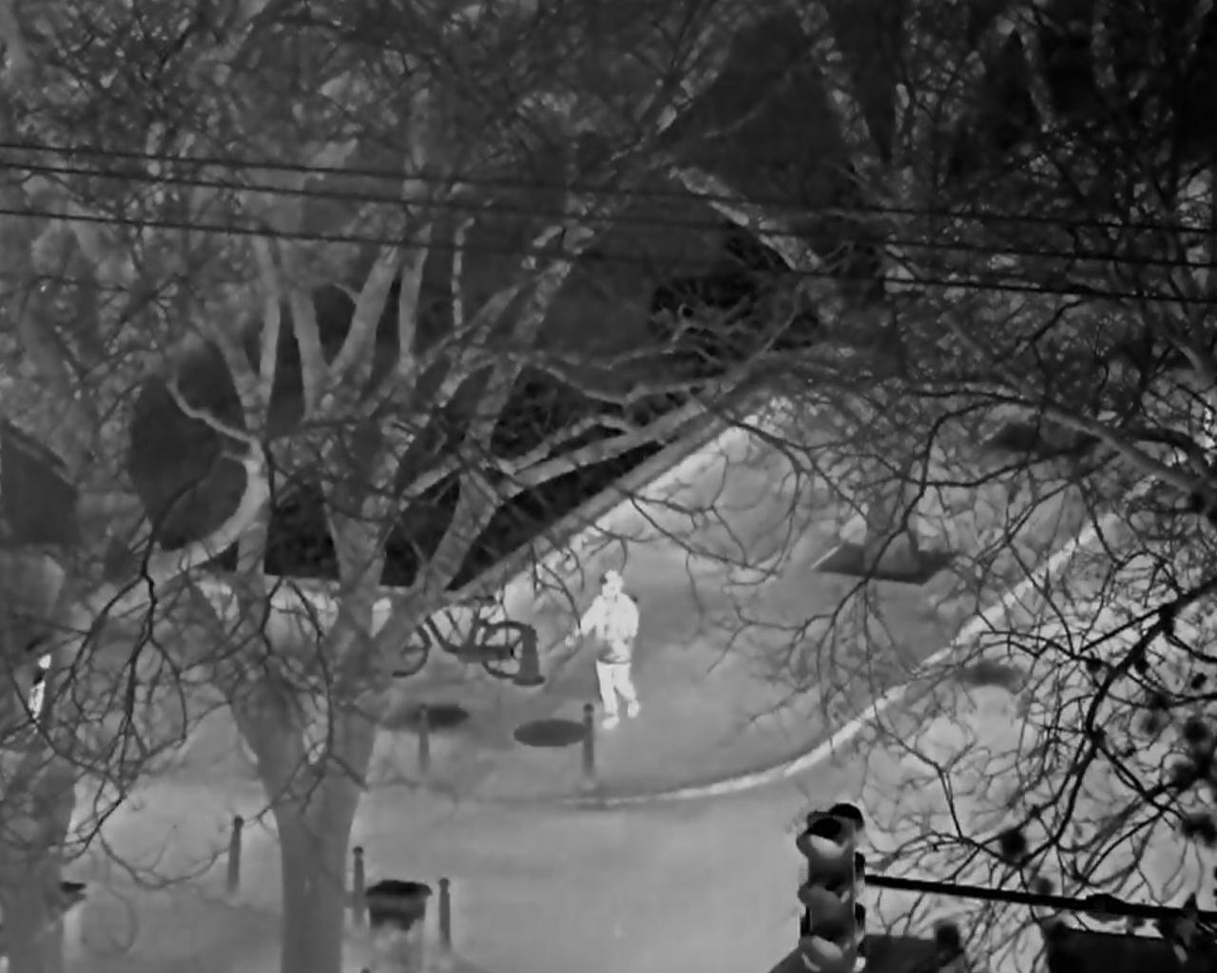person: (566, 568, 640, 731)
